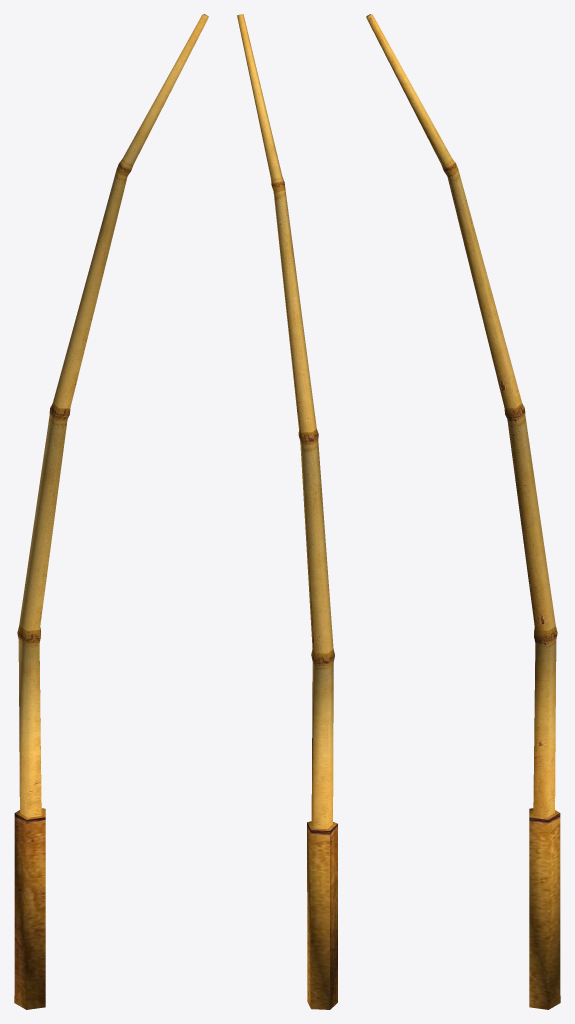
The model's file is starter_rod.glb.
The picture shows the model from 3 angles, left to right: view 1: azimuth 90°, elevation 25°; view 2: azimuth 210°, elevation 25°; view 3: azimuth 270°, elevation 25°; orthographic projection. The views are drawn at different scales.
Parts seen in each view (by area): view 1: Bamboo; view 2: Bamboo; view 3: Bamboo.
Boxes of the visible parts, x1=… form: Bamboo: x1=14, y1=14, x2=208, y2=1009; Bamboo: x1=237, y1=14, x2=337, y2=1009; Bamboo: x1=366, y1=14, x2=560, y2=1009.
Size of the model in its own units: 0.7168 by 23.79 by 4.23.
1 material, 1 textured.
